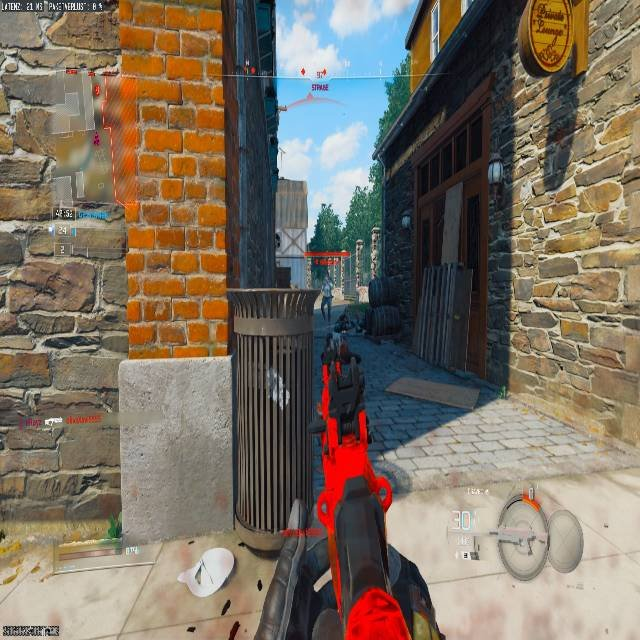player: (316, 310, 408, 517), (319, 270, 333, 320), (334, 313, 351, 333)
